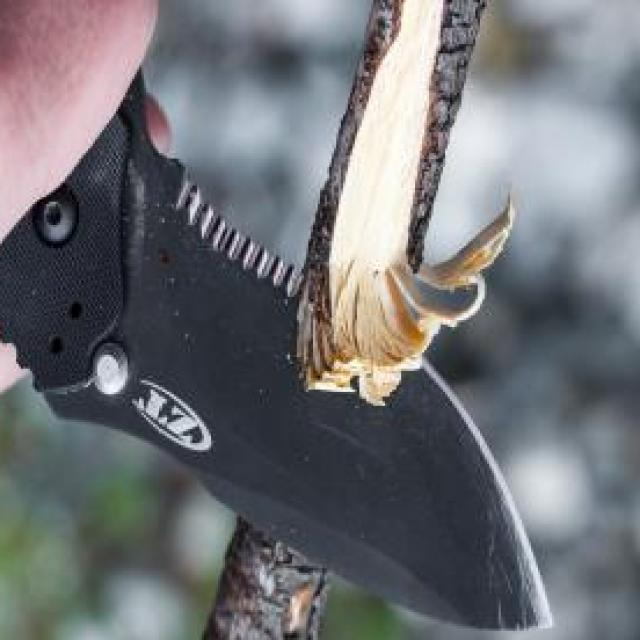knife: (0, 56, 571, 640)
